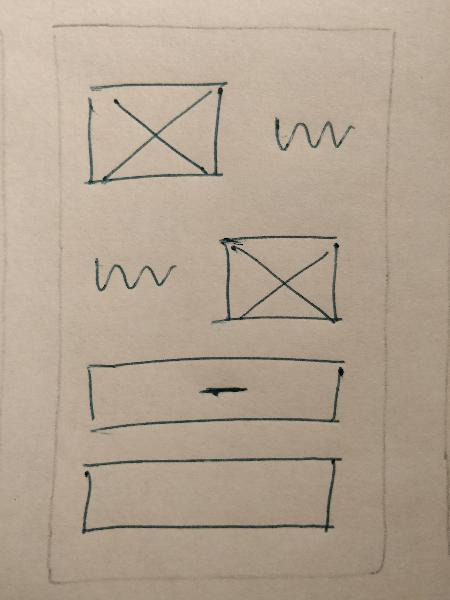button: (81, 352, 356, 437)
image: (76, 66, 235, 194), (207, 227, 347, 332)
text: (258, 101, 361, 168), (88, 248, 180, 301)
text_input: (71, 451, 352, 543)
